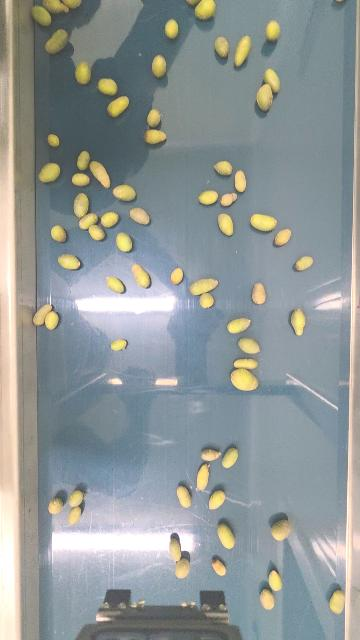Baby Potato: (229, 366, 259, 392), (232, 35, 253, 68), (45, 28, 69, 55), (90, 160, 112, 189), (105, 94, 130, 118), (189, 277, 219, 296), (130, 262, 151, 289), (31, 3, 54, 27), (250, 212, 277, 232), (217, 522, 236, 550), (270, 518, 293, 541), (256, 83, 274, 112), (290, 307, 307, 337), (195, 461, 212, 491), (38, 162, 61, 184), (194, 0, 218, 21), (226, 316, 252, 335), (263, 67, 282, 93), (72, 191, 90, 217), (232, 355, 261, 371), (237, 336, 261, 355), (33, 303, 52, 327), (251, 280, 268, 306), (329, 588, 346, 614), (221, 446, 240, 469), (74, 61, 92, 85), (57, 253, 81, 271), (129, 206, 150, 226), (207, 489, 226, 511), (264, 19, 282, 42), (113, 184, 136, 202), (143, 128, 167, 145), (218, 213, 235, 237), (151, 54, 167, 79), (176, 484, 192, 509), (105, 275, 126, 294), (115, 231, 133, 253), (97, 78, 118, 96), (174, 557, 191, 579), (268, 569, 284, 592), (274, 227, 292, 247), (233, 168, 248, 192), (259, 589, 276, 610), (78, 212, 99, 229), (214, 35, 230, 57), (168, 538, 183, 561), (200, 447, 223, 462), (99, 211, 119, 228), (198, 189, 218, 206), (294, 255, 314, 272), (76, 150, 91, 172), (164, 18, 179, 40), (50, 224, 67, 243), (214, 159, 233, 176), (44, 309, 59, 330), (147, 107, 161, 128), (68, 489, 84, 507), (48, 497, 64, 515), (71, 172, 90, 187), (67, 506, 82, 525), (199, 292, 216, 308), (212, 558, 227, 576), (219, 191, 237, 206), (90, 224, 106, 240), (170, 267, 184, 285), (109, 338, 127, 351), (59, 0, 83, 9), (46, 133, 60, 147), (184, 0, 201, 5)
